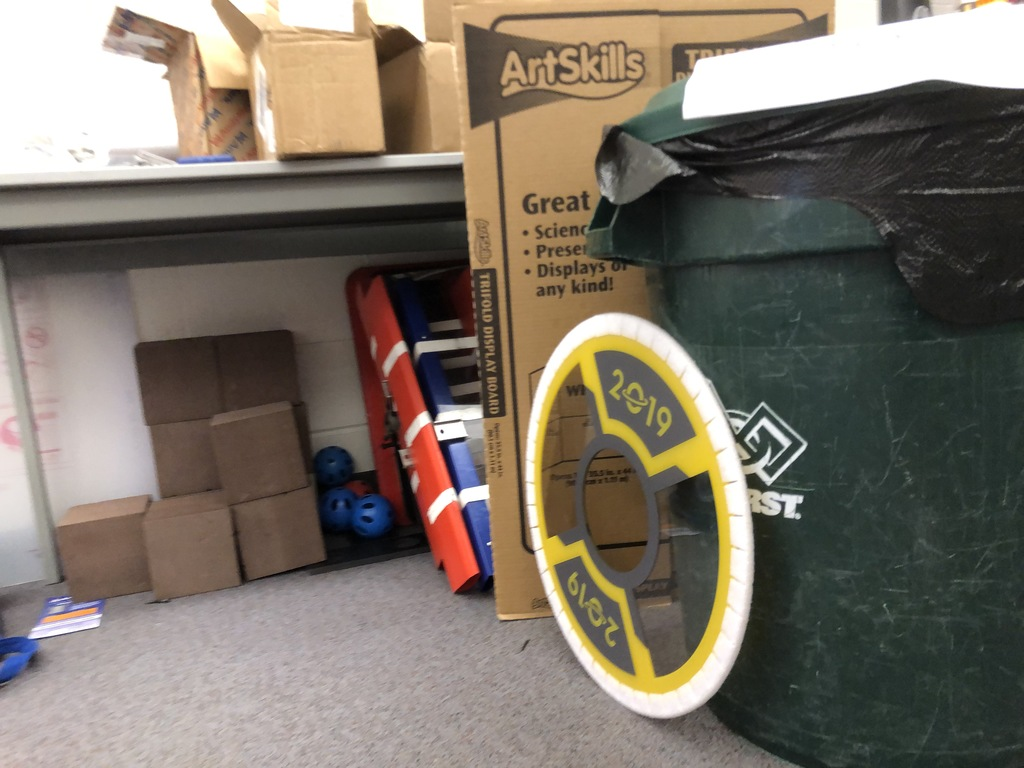hatch_panel: (518, 303, 764, 736)
